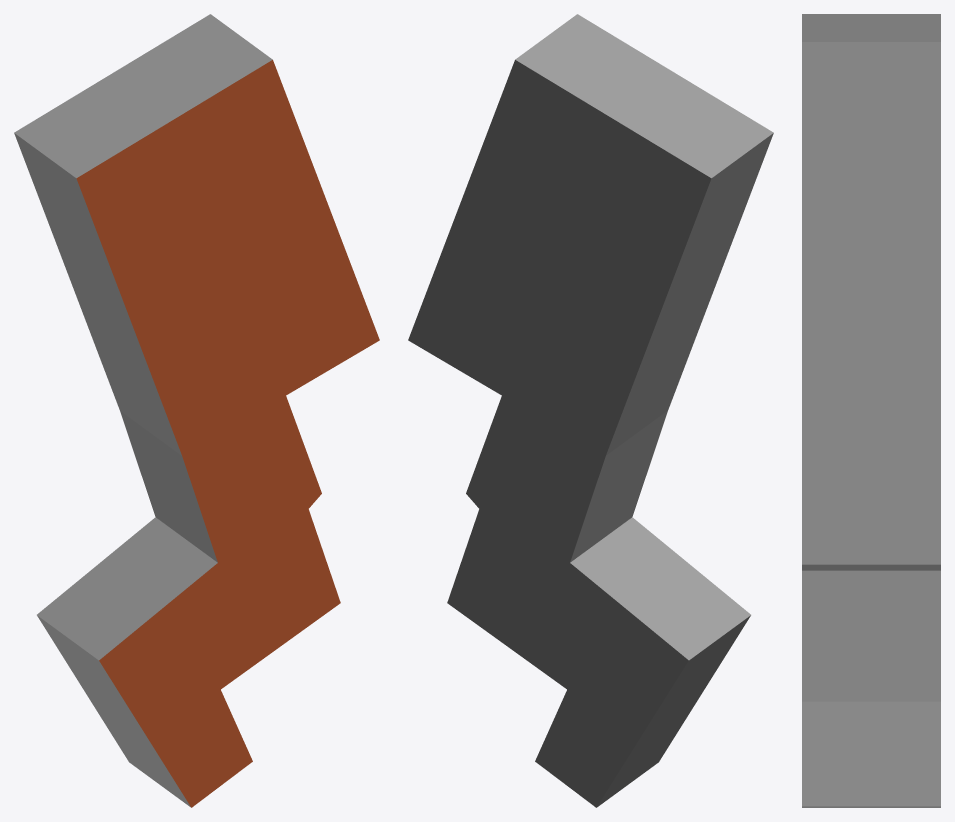
File: construction_6779_assumed_A_Casa_h6m.obj
3 views of the same model, side by side, from view 1: azimuth 30°, elevation 25°; view 2: azimuth 150°, elevation 25°; view 3: azimuth 270°, elevation 25° (orthographic). The views are drawn at different scales.
Visible parts, largest first — view 1: construction_6779_assumed_A_Casa; view 2: construction_6779_assumed_A_Casa; view 3: construction_6779_assumed_A_Casa.
Part boxes in pixels (left/top/right/bottom): construction_6779_assumed_A_Casa: left=14, top=14, right=379, bottom=807; construction_6779_assumed_A_Casa: left=408, top=14, right=773, bottom=807; construction_6779_assumed_A_Casa: left=802, top=14, right=940, bottom=807.
Size of the model in its own units: 16.85 by 38.65 by 6.
